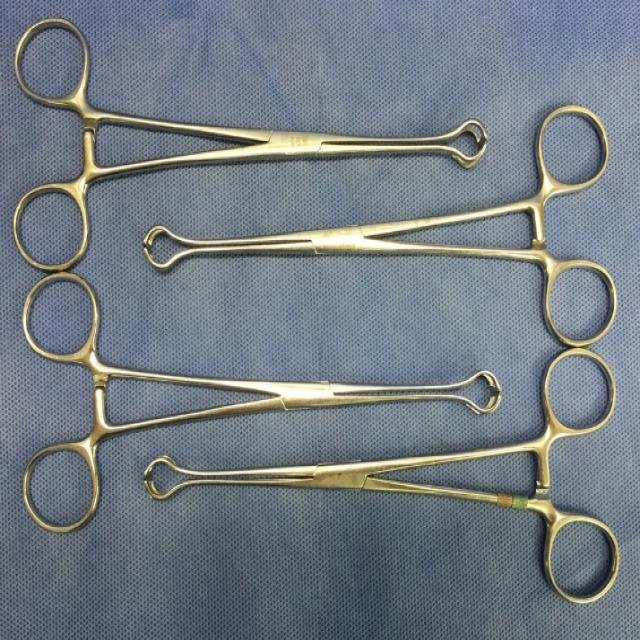Babcock Forceps: (12, 268, 504, 534), (144, 350, 632, 604), (9, 18, 498, 266), (146, 106, 624, 345)
